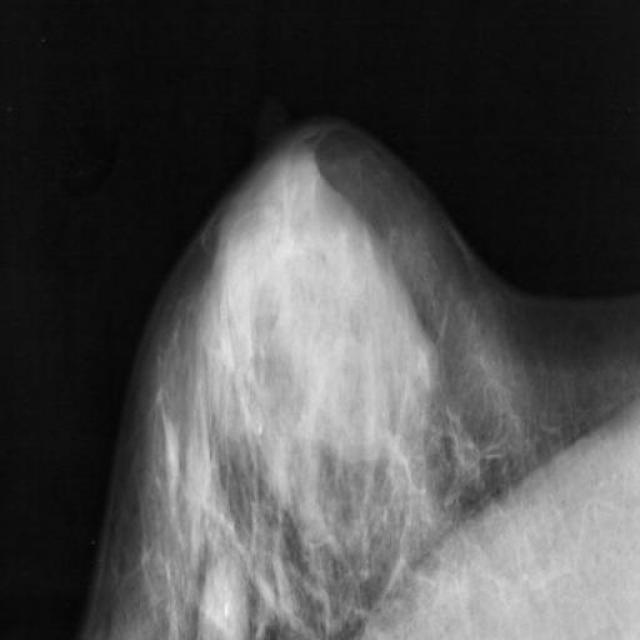cancer: (193, 550, 243, 640)
